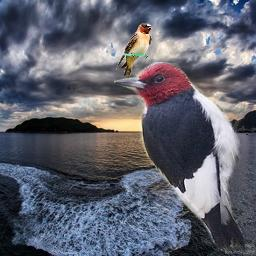Swallow: (116, 23, 153, 76)
Woodpecker: (114, 62, 245, 252)
